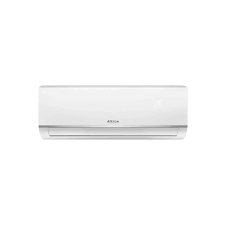ac: (34, 80, 190, 144)
